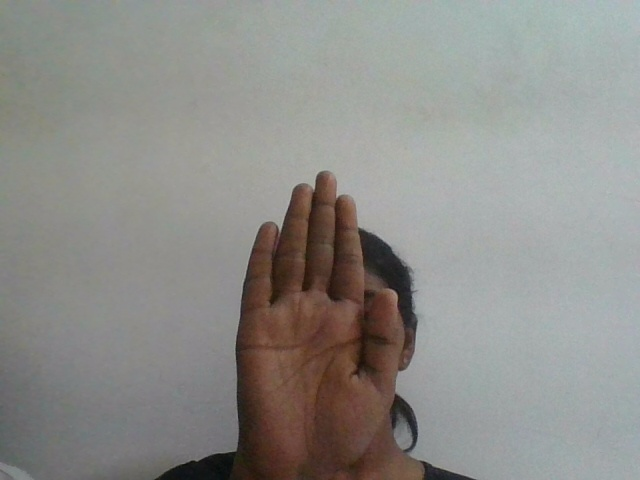Hello: (232, 162, 408, 468)
